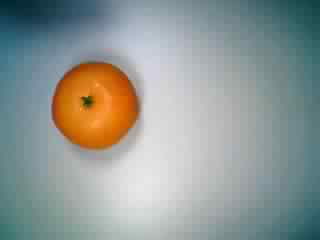orange: (47, 59, 144, 153)
